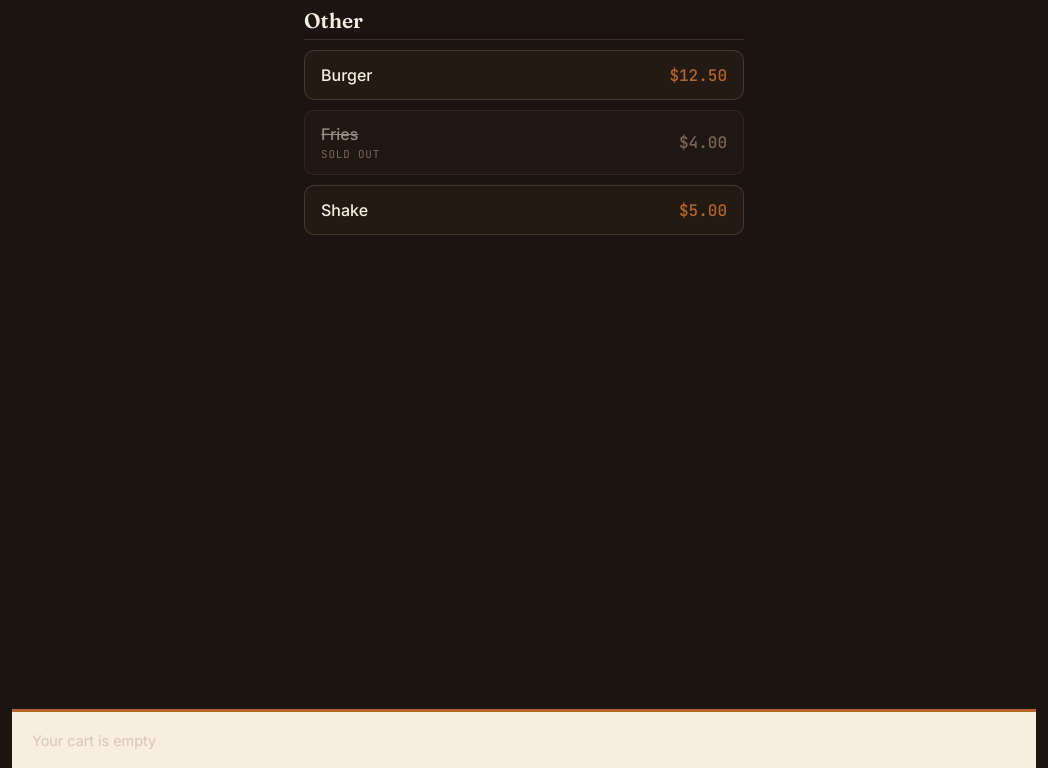
Test: Cart › replaces the toast when a different item is added
The width and height of the screenshot is (1048, 768).
Click the button "Burger $12.50".
click(347, 75)  # box [304,50,744,100]
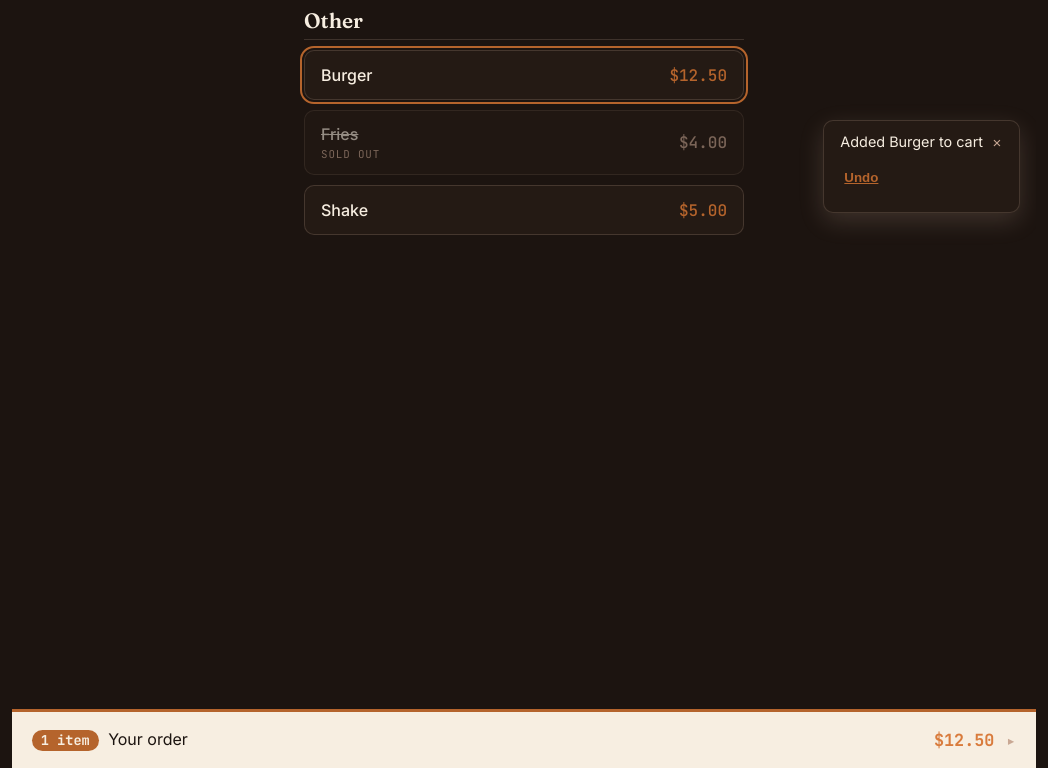
Click the button "Shake $5.00".
click(345, 210)  # box [304,185,744,235]
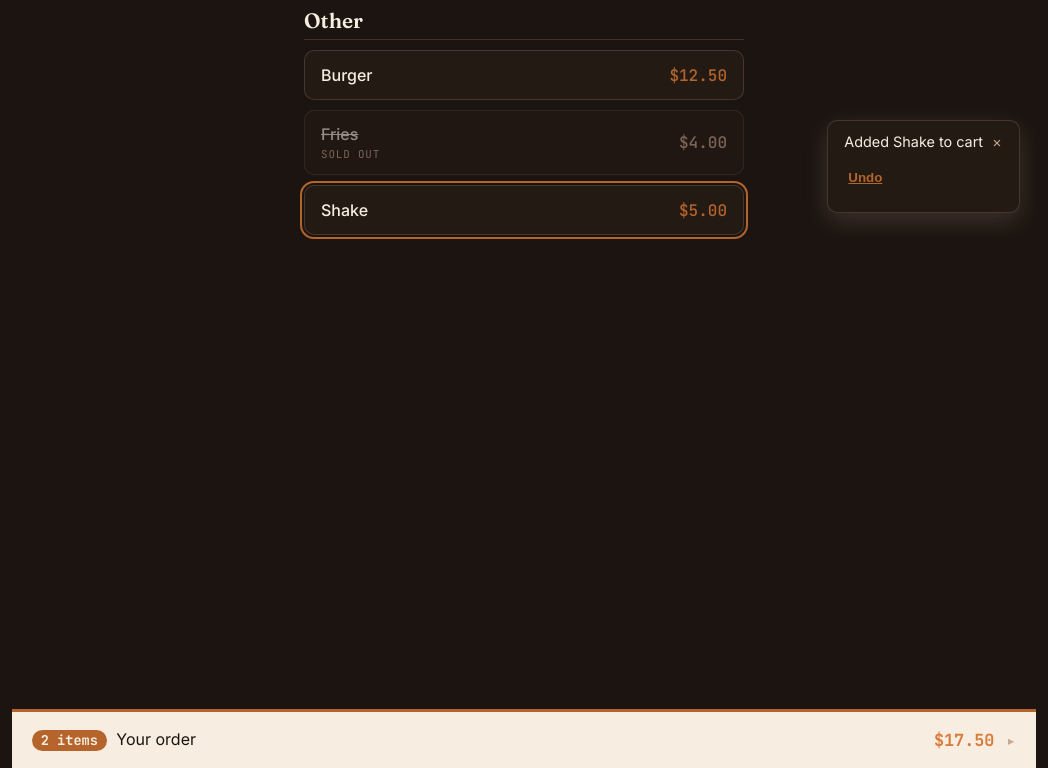
Expected: the number of messages is 1, [827,120,1020,213]
Expected: the message shows "Added Shake to cart", [827,120,1020,213]
